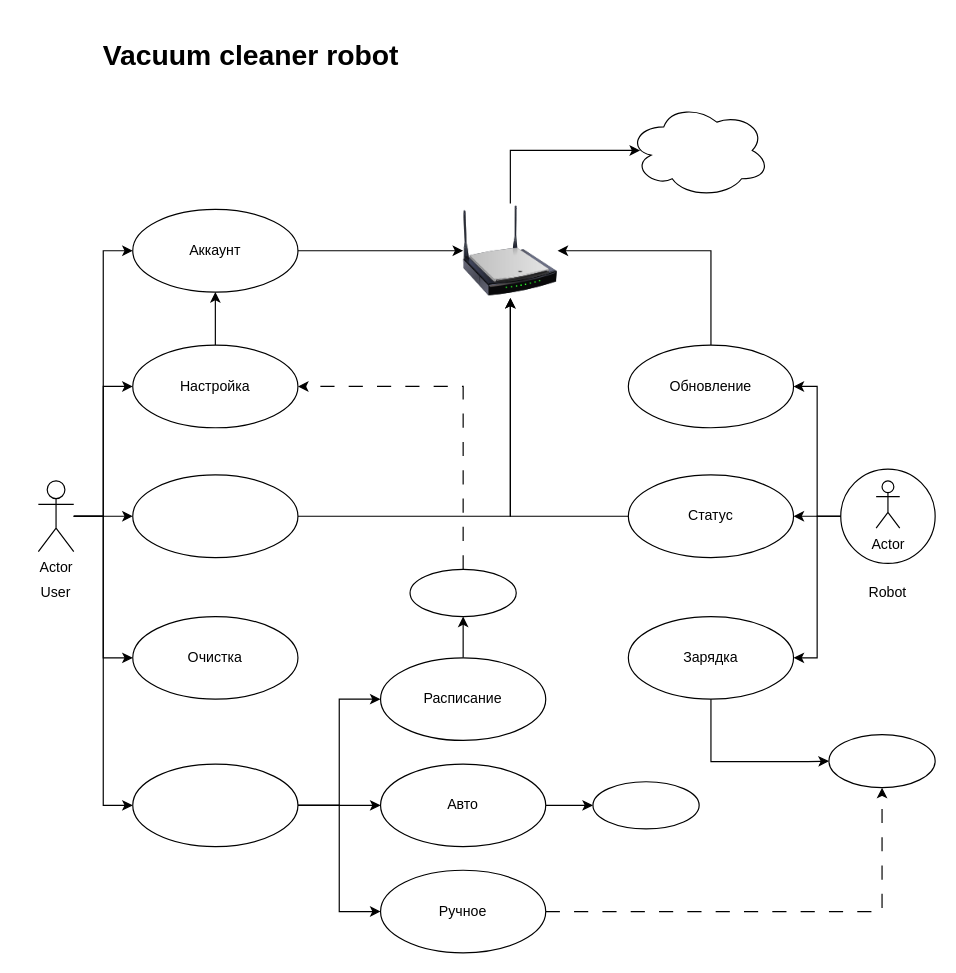
This 956x973 diagram has some shape labels left out. The centre of each missing label's shape, as x and y in pixels:
"Cloud" belongs at pixel 698 150.
"Возврат на базу" belongs at pixel 881 760.
"Календарь" belongs at pixel 462 592.
"Карта" belongs at pixel 645 805.
"Состояние" belongs at pixel 215 516.
"Управление" belongs at pixel 215 805.
